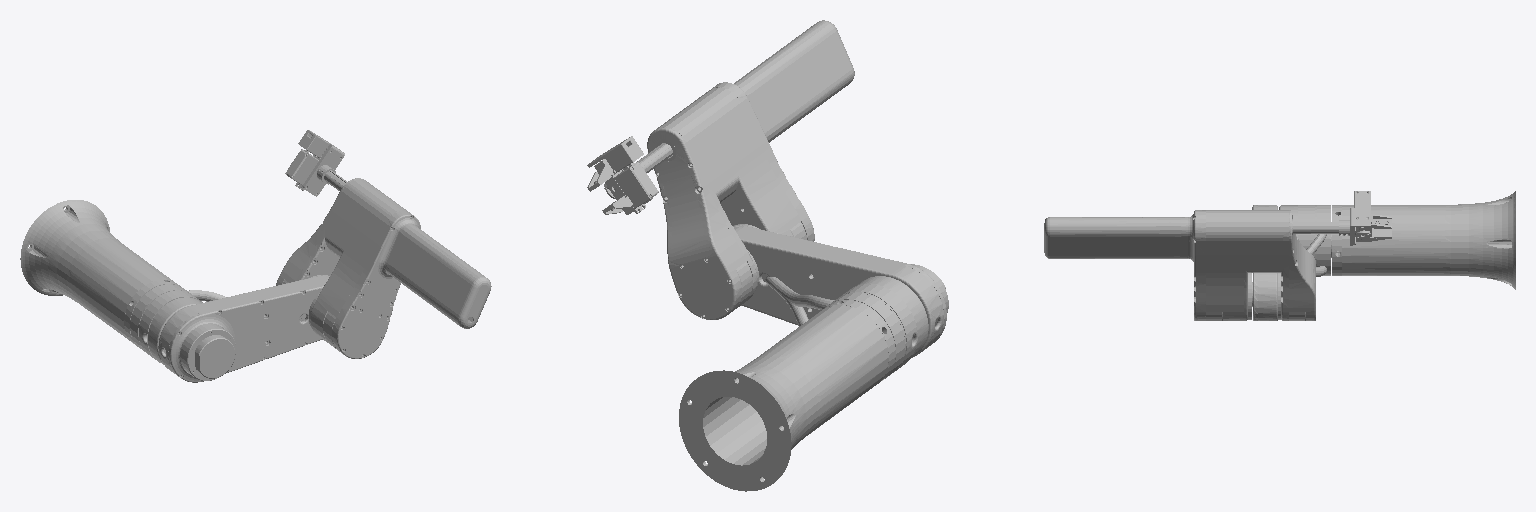
robot.urdf — 00-SCARA:
<?xml version="1.0" encoding="utf-8"?>
<!-- This URDF was automatically created by SolidWorks to URDF Exporter! Originally created by [author] ([email redacted]) 
     Commit Version: 1.6.0-4-g7f85cfe  Build Version: 1.6.7995.38578
     For more information, please see http://wiki.ros.org/sw_urdf_exporter -->
<robot
  name="00-SCARA">
  <link
    name="BASE">
    <inertial>
      <origin
        xyz="7.16421917942135E-05 1.3542109605614E-05 0.18099571236549"
        rpy="0 0 0" />
      <mass
        value="1.46804980186314" />
      <inertia
        ixx="0.00842920035948805"
        ixy="3.50262874031246E-07"
        ixz="-6.38631458412278E-07"
        iyy="0.0084253370773801"
        iyz="2.17446352849247E-07"
        izz="0.00253728833651902" />
    </inertial>
    <visual>
      <origin
        xyz="0 0 0"
        rpy="0 0 0" />
      <geometry>
        <mesh
          filename="package://00-SCARA/meshes/BASE.STL" />
      </geometry>
      <material
        name="">
        <color
          rgba="0.752941176470588 0.752941176470588 0.752941176470588 1" />
      </material>
    </visual>
    <collision>
      <origin
        xyz="0 0 0"
        rpy="0 0 0" />
      <geometry>
        <mesh
          filename="package://00-SCARA/meshes/BASE.STL" />
      </geometry>
    </collision>
  </link>
  <link
    name="LINK1">
    <inertial>
      <origin
        xyz="0.0484139248726095 2.20590711719829E-05 0.346949698783894"
        rpy="0 0 0" />
      <mass
        value="0.668715038402639" />
      <inertia
        ixx="0.000501755011560242"
        ixy="8.38768282365564E-08"
        ixz="-6.84412359363594E-05"
        iyy="0.00248735615221583"
        iyz="-1.16431826234763E-07"
        izz="0.00287940086983324" />
    </inertial>
    <visual>
      <origin
        xyz="0 0 0"
        rpy="0 0 0" />
      <geometry>
        <mesh
          filename="package://00-SCARA/meshes/LINK1.STL" />
      </geometry>
      <material
        name="">
        <color
          rgba="0.752941176470588 0.752941176470588 0.752941176470588 1" />
      </material>
    </visual>
    <collision>
      <origin
        xyz="0 0 0"
        rpy="0 0 0" />
      <geometry>
        <mesh
          filename="package://00-SCARA/meshes/LINK1.STL" />
      </geometry>
    </collision>
  </link>
  <joint
    name="LINK1"
    type="revolute">
    <origin
      xyz="0 0 0"
      rpy="1.5708 -0.04709 0" />
    <parent
      link="BASE" />
    <child
      link="LINK1" />
    <axis
      xyz="0 0 0" />
    <limit
      lower="0"
      upper="0"
      effort="0"
      velocity="0" />
  </joint>
  <link
    name="LINK2">
    <inertial>
      <origin
        xyz="0.26069645933821 -0.00262206848028845 0.400468073597669"
        rpy="0 0 0" />
      <mass
        value="1.1127699658662" />
      <inertia
        ixx="0.00117171893333024"
        ixy="-3.93427635773306E-05"
        ixz="-4.12603973995657E-05"
        iyy="0.00276702775036591"
        iyz="-3.9153357792706E-05"
        izz="0.00227111088419481" />
    </inertial>
    <visual>
      <origin
        xyz="0 0 0"
        rpy="0 0 0" />
      <geometry>
        <mesh
          filename="package://00-SCARA/meshes/LINK2.STL" />
      </geometry>
      <material
        name="">
        <color
          rgba="0.752941176470588 0.752941176470588 0.752941176470588 1" />
      </material>
    </visual>
    <collision>
      <origin
        xyz="0 0 0"
        rpy="0 0 0" />
      <geometry>
        <mesh
          filename="package://00-SCARA/meshes/LINK2.STL" />
      </geometry>
    </collision>
  </link>
  <joint
    name="LINK2"
    type="revolute">
    <origin
      xyz="0.096154 -0.18006 -0.010468"
      rpy="0 0 1.0603" />
    <parent
      link="LINK1" />
    <child
      link="LINK2" />
    <axis
      xyz="0 0 0" />
    <limit
      lower="0"
      upper="0"
      effort="0"
      velocity="0" />
  </joint>
  <link
    name="LINK3">
    <inertial>
      <origin
        xyz="0.286364755860275 0.137620160192424 0.0119164688096812"
        rpy="0 0 0" />
      <mass
        value="0.0166188372093739" />
      <inertia
        ixx="2.75996511157422E-06"
        ixy="-1.98901191773345E-06"
        ixz="9.85700114150892E-08"
        iyy="3.20803397608032E-06"
        iyz="8.80907775098542E-08"
        izz="5.20478749973822E-06" />
    </inertial>
    <visual>
      <origin
        xyz="0 0 0"
        rpy="0 0 0" />
      <geometry>
        <mesh
          filename="package://00-SCARA/meshes/LINK3.STL" />
      </geometry>
      <material
        name="">
        <color
          rgba="0.752941176470588 0.752941176470588 0.752941176470588 1" />
      </material>
    </visual>
    <collision>
      <origin
        xyz="0 0 0"
        rpy="0 0 0" />
      <geometry>
        <mesh
          filename="package://00-SCARA/meshes/LINK3.STL" />
      </geometry>
    </collision>
  </link>
  <joint
    name="LINK3"
    type="prismatic">
    <origin
      xyz="0.028418 0.085576 0.58862"
      rpy="0 0 -0.72932" />
    <parent
      link="LINK2" />
    <child
      link="LINK3" />
    <axis
      xyz="0 0 1" />
    <limit
      lower="0"
      upper="0"
      effort="0"
      velocity="0" />
  </joint>
  <link
    name="LINK4">
    <inertial>
      <origin
        xyz="-0.000960020981620902 -0.000859185726028208 -0.0344702469292239"
        rpy="0 0 0" />
      <mass
        value="0.0164150189496518" />
      <inertia
        ixx="8.38365885393722E-06"
        ixy="-9.13058924333034E-08"
        ixz="2.90788083077103E-08"
        iyy="8.40396490526716E-06"
        iyz="2.60245322806172E-08"
        izz="3.12987842968931E-06" />
    </inertial>
    <visual>
      <origin
        xyz="0 0 0"
        rpy="0 0 0" />
      <geometry>
        <mesh
          filename="package://00-SCARA/meshes/LINK4.STL" />
      </geometry>
      <material
        name="">
        <color
          rgba="0.752941176470588 0.752941176470588 0.752941176470588 1" />
      </material>
    </visual>
    <collision>
      <origin
        xyz="0 0 0"
        rpy="0 0 0" />
      <geometry>
        <mesh
          filename="package://00-SCARA/meshes/LINK4.STL" />
      </geometry>
    </collision>
  </link>
  <joint
    name="LINK4"
    type="revolute">
    <origin
      xyz="0.30441 0.15374 -0.1284"
      rpy="0 0 0.075584" />
    <parent
      link="LINK3" />
    <child
      link="LINK4" />
    <axis
      xyz="0 0 1" />
    <limit
      lower="0"
      upper="0"
      effort="0"
      velocity="0" />
  </joint>
  <link
    name="GRIPPER">
    <inertial>
      <origin
        xyz="-0.000447070545206485 0.0039430481967168 -0.127670775825744"
        rpy="0 0 0" />
      <mass
        value="0.135596532339296" />
      <inertia
        ixx="0.000715616364121439"
        ixy="-2.00799723245443E-06"
        ixz="1.95608237868685E-06"
        iyy="0.000722668105282603"
        iyz="1.43527550448802E-06"
        izz="2.42028221106115E-05" />
    </inertial>
    <visual>
      <origin
        xyz="0 0 0"
        rpy="0 0 0" />
      <geometry>
        <mesh
          filename="package://00-SCARA/meshes/GRIPPER.STL" />
      </geometry>
      <material
        name="">
        <color
          rgba="0.752941176470588 0.752941176470588 0.752941176470588 1" />
      </material>
    </visual>
    <collision>
      <origin
        xyz="0 0 0"
        rpy="0 0 0" />
      <geometry>
        <mesh
          filename="package://00-SCARA/meshes/GRIPPER.STL" />
      </geometry>
    </collision>
  </link>
  <joint
    name="GRIPPER"
    type="continuous">
    <origin
      xyz="0 0 0"
      rpy="0 0 0.42243" />
    <parent
      link="LINK4" />
    <child
      link="GRIPPER" />
    <axis
      xyz="0 0 1" />
  </joint>
</robot>

--- What the picture shows (computed from the rendered views, not written in the file) ---
3 views of the same robot in one strip: view 1: azimuth 30°, elevation 25°; view 2: azimuth 150°, elevation 25°; view 3: azimuth 270°, elevation 25° (orthographic).
Model 00-SCARA with 6 links and 5 joints (3 revolute, 1 continuous, 1 prismatic), rooted at BASE, posed all joints at 0.
Links seen in each view (by area): view 1: LINK2, BASE, LINK1, GRIPPER; view 2: LINK2, BASE, LINK1, GRIPPER; view 3: LINK2, BASE, LINK1, GRIPPER.
Link boxes in pixels (x1,y1,x2,y2): LINK2: (276,178,491,358); BASE: (20,200,202,364); LINK1: (130,275,329,382); GRIPPER: (285,130,346,196); LINK2: (647,20,854,319); BASE: (679,276,928,491); LINK1: (733,225,948,378); GRIPPER: (587,136,673,214); LINK2: (1044,210,1315,320); BASE: (1279,191,1515,289); LINK1: (1252,205,1330,320); GRIPPER: (1293,191,1391,245).
Bounding box of the posed robot: 0.3711 × 0.6635 × 0.268 m (x, y, z).
6 mesh visuals loaded from 6 distinct referenced files (6 binary STL).